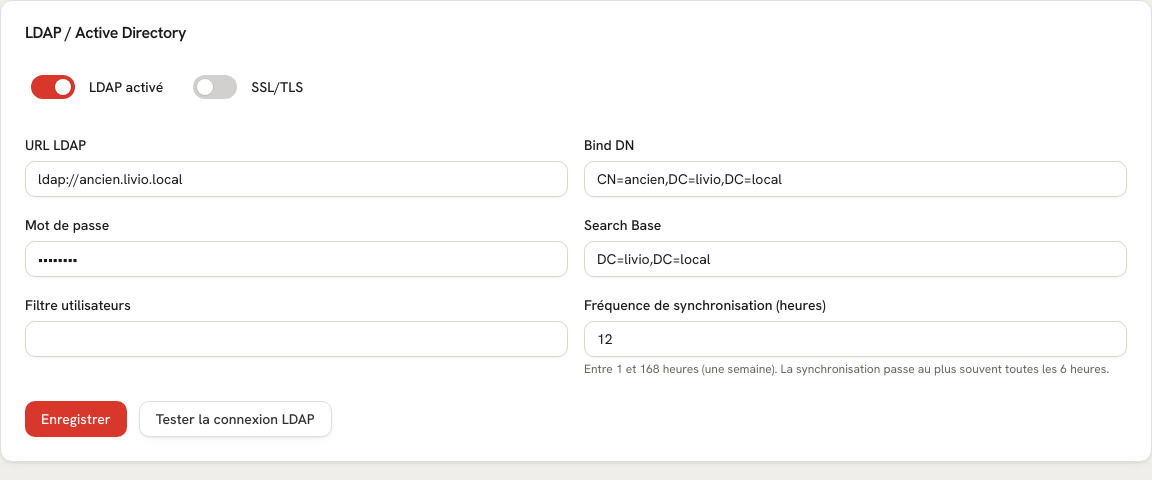
ConfigLdapPage — test de connexion › teste les valeurs saisies, non enregistrées, sans renvoyer le mot de passe masqué ni enregistrer
Replace the text in the field labelled "URL LDAP" with "ldaps://dc02.livio.local:636": [296, 179] box [25,161,568,197]
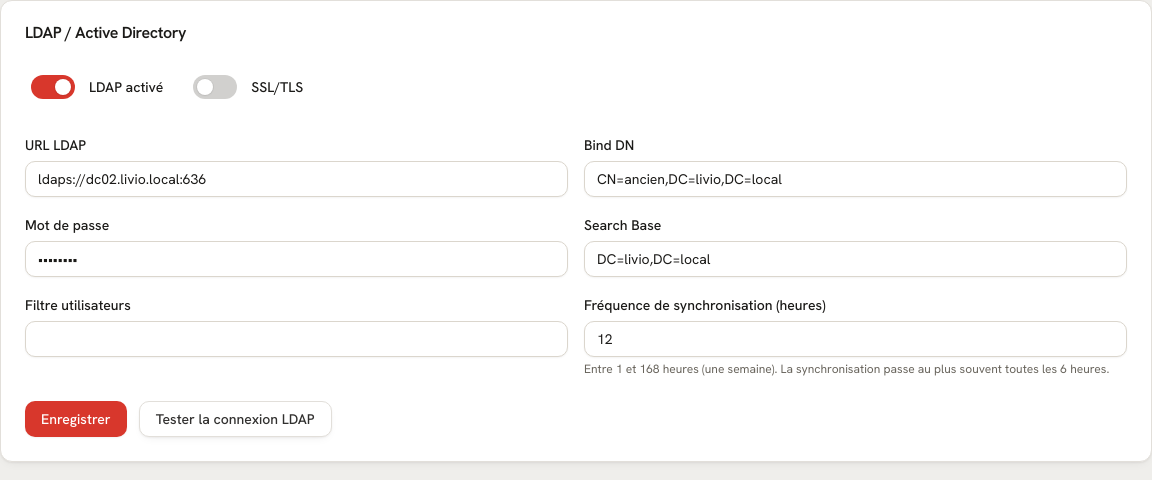
Click the switch named "SSL/TLS": [215, 87] box [187,65,243,109]
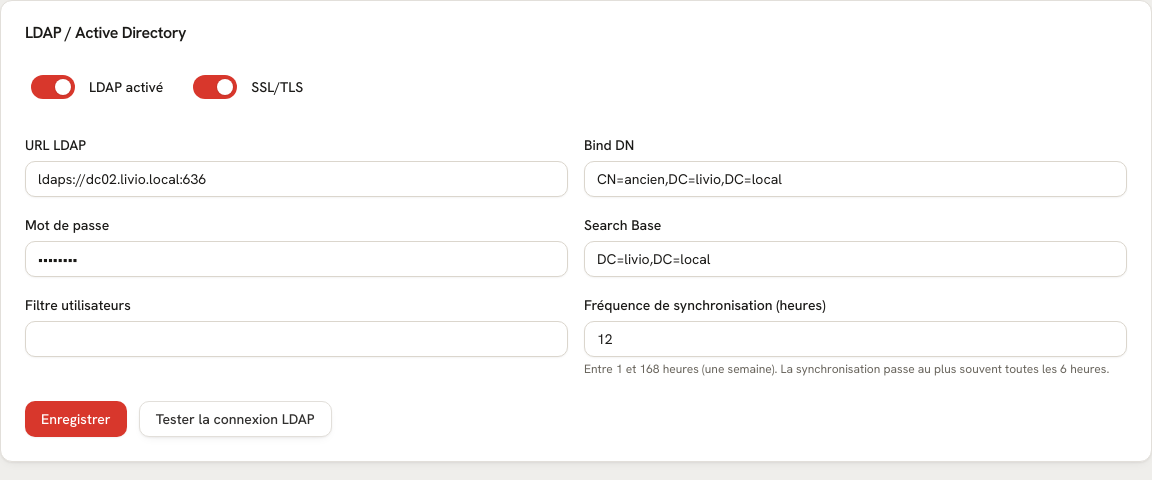
Replace the text in the field labelled "Bind DN" with "CN=svc,DC=livio,DC=local": [856, 179] box [584,161,1127,197]
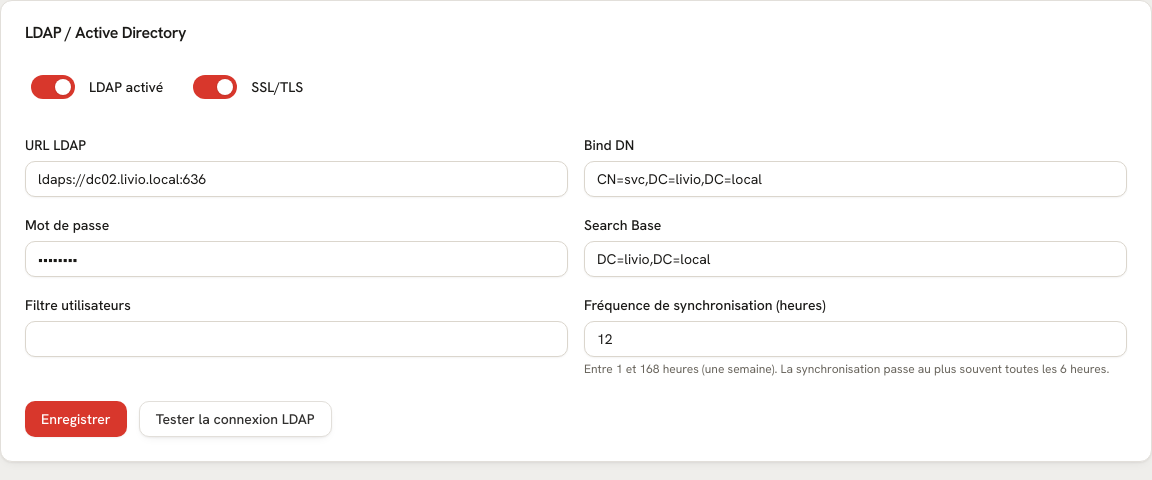
Click the button "Tester la connexion LDAP": [235, 419] box [139,401,332,437]
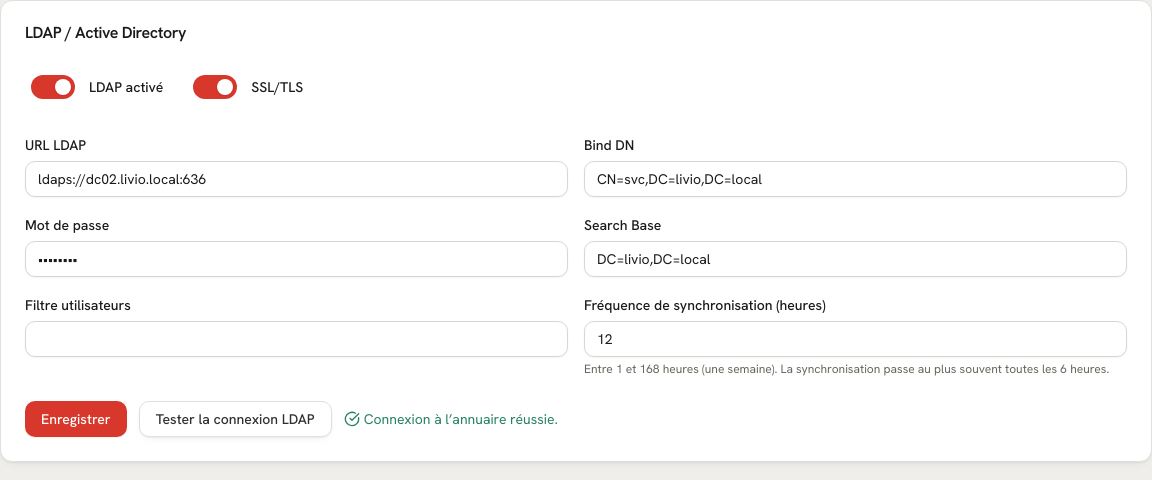
expect the text "Connexion à l’annuaire réussie." is shown: met, box [364,409,558,429]
